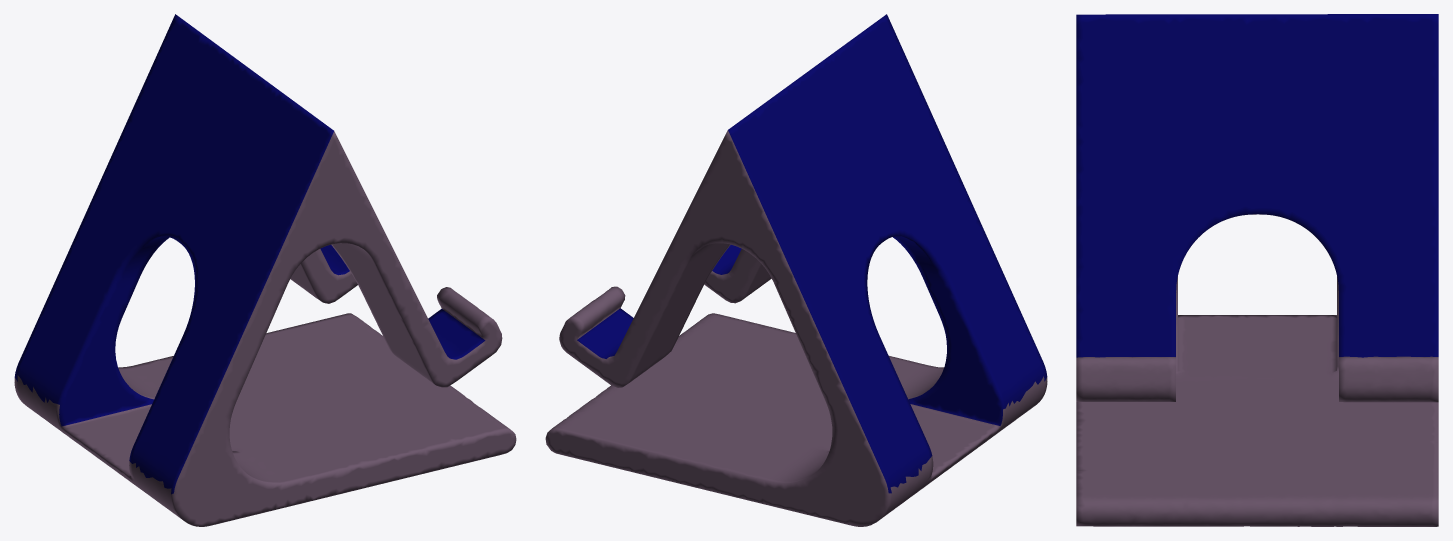
File: phone_holder.obj
3 views of the same model, side by side, from view 1: azimuth 30°, elevation 25°; view 2: azimuth 150°, elevation 25°; view 3: azimuth 270°, elevation 25° (orthographic). The views are drawn at different scales.
Size of the model in its own units: 83.56 by 84.99 by 67.
